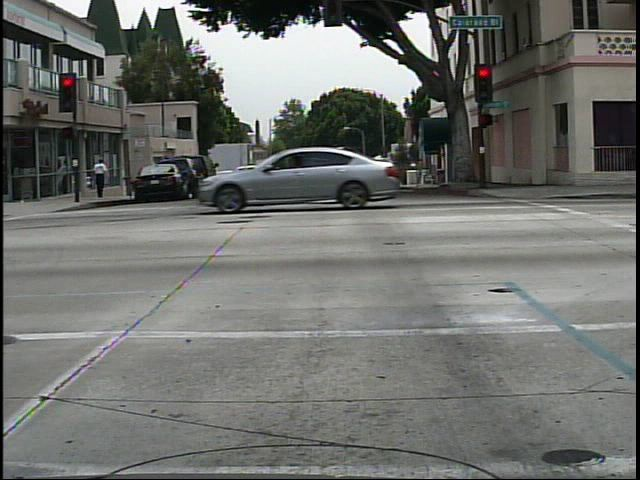person: (465, 141, 495, 195), (86, 151, 114, 203)
